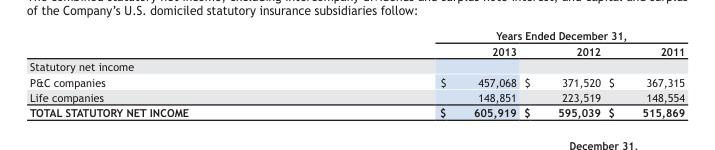table: (29, 28, 684, 118)
table column: (29, 28, 313, 118), (313, 28, 519, 118), (519, 28, 603, 118), (603, 28, 684, 118)
table column header: (29, 28, 684, 58)
table projected row header: (29, 58, 684, 73)
table row: (29, 73, 684, 89), (29, 28, 684, 43), (29, 43, 684, 58), (29, 58, 684, 73), (29, 89, 684, 104), (29, 104, 684, 118)
table spanning cell: (313, 28, 684, 43)
